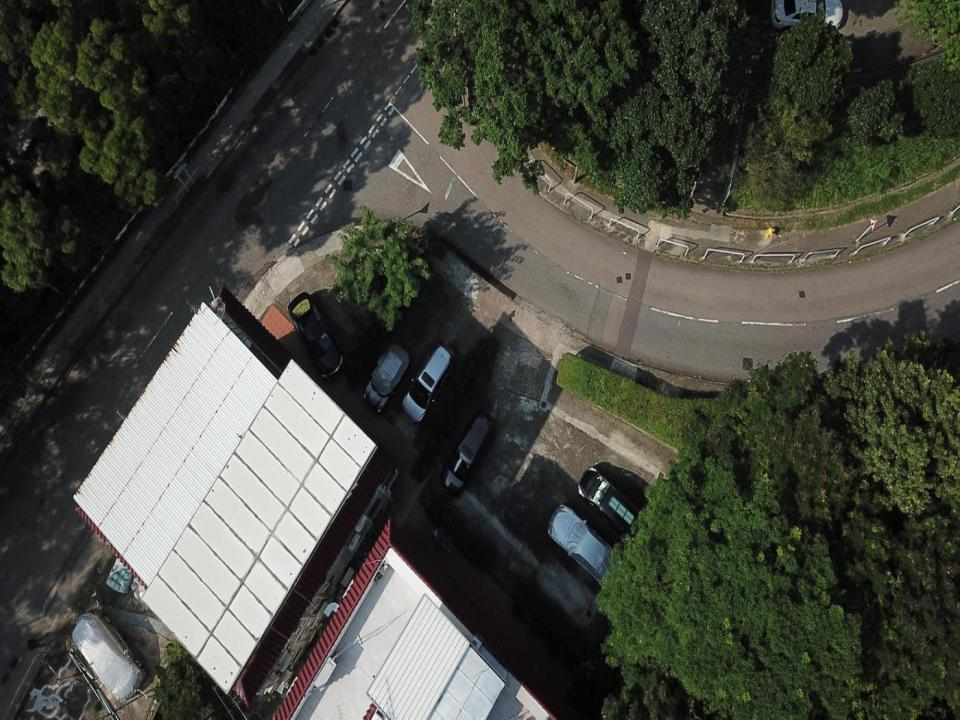car: (547, 501, 628, 594), (71, 608, 146, 702), (576, 466, 648, 544), (438, 408, 497, 498), (287, 291, 346, 379), (402, 339, 459, 425), (363, 343, 410, 414), (769, 0, 844, 32)
